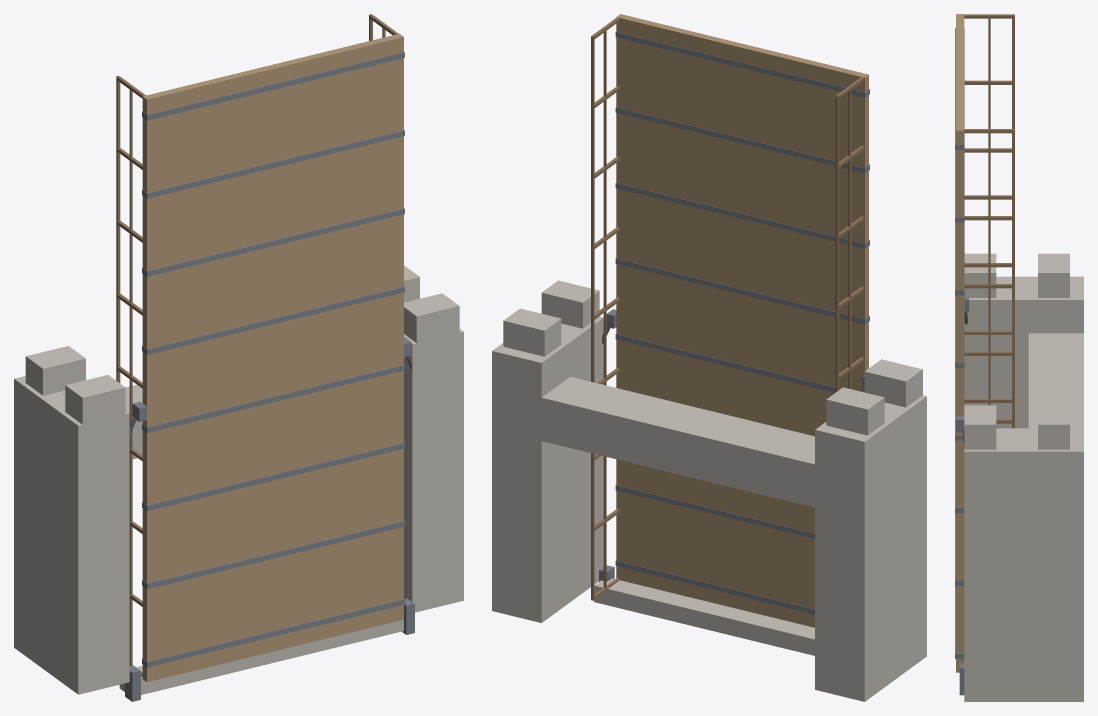
The model's file is chain_drawbridge_road.glb.
The picture shows the model from 3 angles, left to right: view 1: azimuth 30°, elevation 25°; view 2: azimuth 150°, elevation 25°; view 3: azimuth 270°, elevation 25°; orthographic projection. The views are drawn at different scales.
Parts seen in each view (by area): view 1: span, bridge; view 2: span, bridge; view 3: bridge, span.
Part boxes in pixels (<box>): span: <box>116,14,411,682</box>; bridge: <box>14,265,463,701</box>; span: <box>591,14,869,627</box>; bridge: <box>492,280,926,701</box>; bridge: <box>959,253,1083,701</box>; span: <box>955,14,1014,672</box>.
Bounding box in the file's own units: 9 × 13.4 × 2.8.
